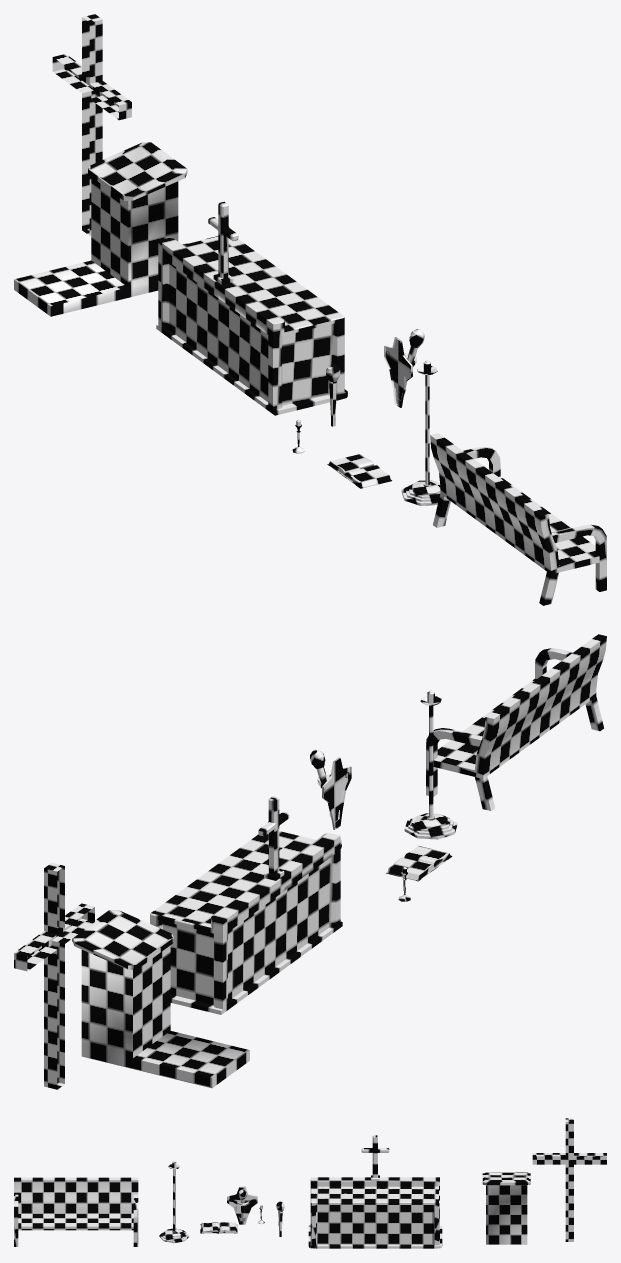
File: props_UVs.obj
The picture shows the model from 3 angles, top to bottom: view 1: azimuth 30°, elevation 25°; view 2: azimuth 150°, elevation 25°; view 3: azimuth 270°, elevation 25°; orthographic projection. The views are drawn at different scales.
Visible parts, largest first — view 1: altar, pCube007, pCube001, pCube6, candlestick_tall, book, polySurface21_polySurface004; view 2: altar, pCube007, pCube001, pCube6, candlestick_tall, book, polySurface21_polySurface004; view 3: altar, pCube001, pCube007, pCube6, polySurface21_polySurface004, candlestick_tall, book.
Part boxes in pixels (x1=…): altar: x1=156, y1=201, x2=347, y2=415; pCube007: x1=14, y1=142, x2=187, y2=316; pCube001: x1=430, y1=433, x2=606, y2=605; pCube6: x1=52, y1=14, x2=131, y2=235; candlestick_tall: x1=401, y1=366, x2=440, y2=505; book: x1=327, y1=454, x2=392, y2=488; polySurface21_polySurface004: x1=384, y1=337, x2=416, y2=407; altar: x1=150, y1=796, x2=342, y2=1014; pCube007: x1=72, y1=910, x2=249, y2=1088; pCube001: x1=426, y1=634, x2=606, y2=810; pCube6: x1=14, y1=863, x2=94, y2=1089; candlestick_tall: x1=404, y1=696, x2=457, y2=839; book: x1=386, y1=846, x2=452, y2=881; polySurface21_polySurface004: x1=317, y1=757, x2=351, y2=829; altar: x1=308, y1=1135, x2=442, y2=1248; pCube001: x1=14, y1=1177, x2=138, y2=1246; pCube007: x1=482, y1=1172, x2=530, y2=1244; pCube6: x1=532, y1=1118, x2=606, y2=1241; polySurface21_polySurface004: x1=227, y1=1186, x2=257, y2=1224; candlestick_tall: x1=159, y1=1164, x2=189, y2=1243; book: x1=200, y1=1222, x2=237, y2=1233.
Bounding box in the file's own units: 2.46 × 3.23 × 14.31.
Materials: 1 (1 with a texture image).
